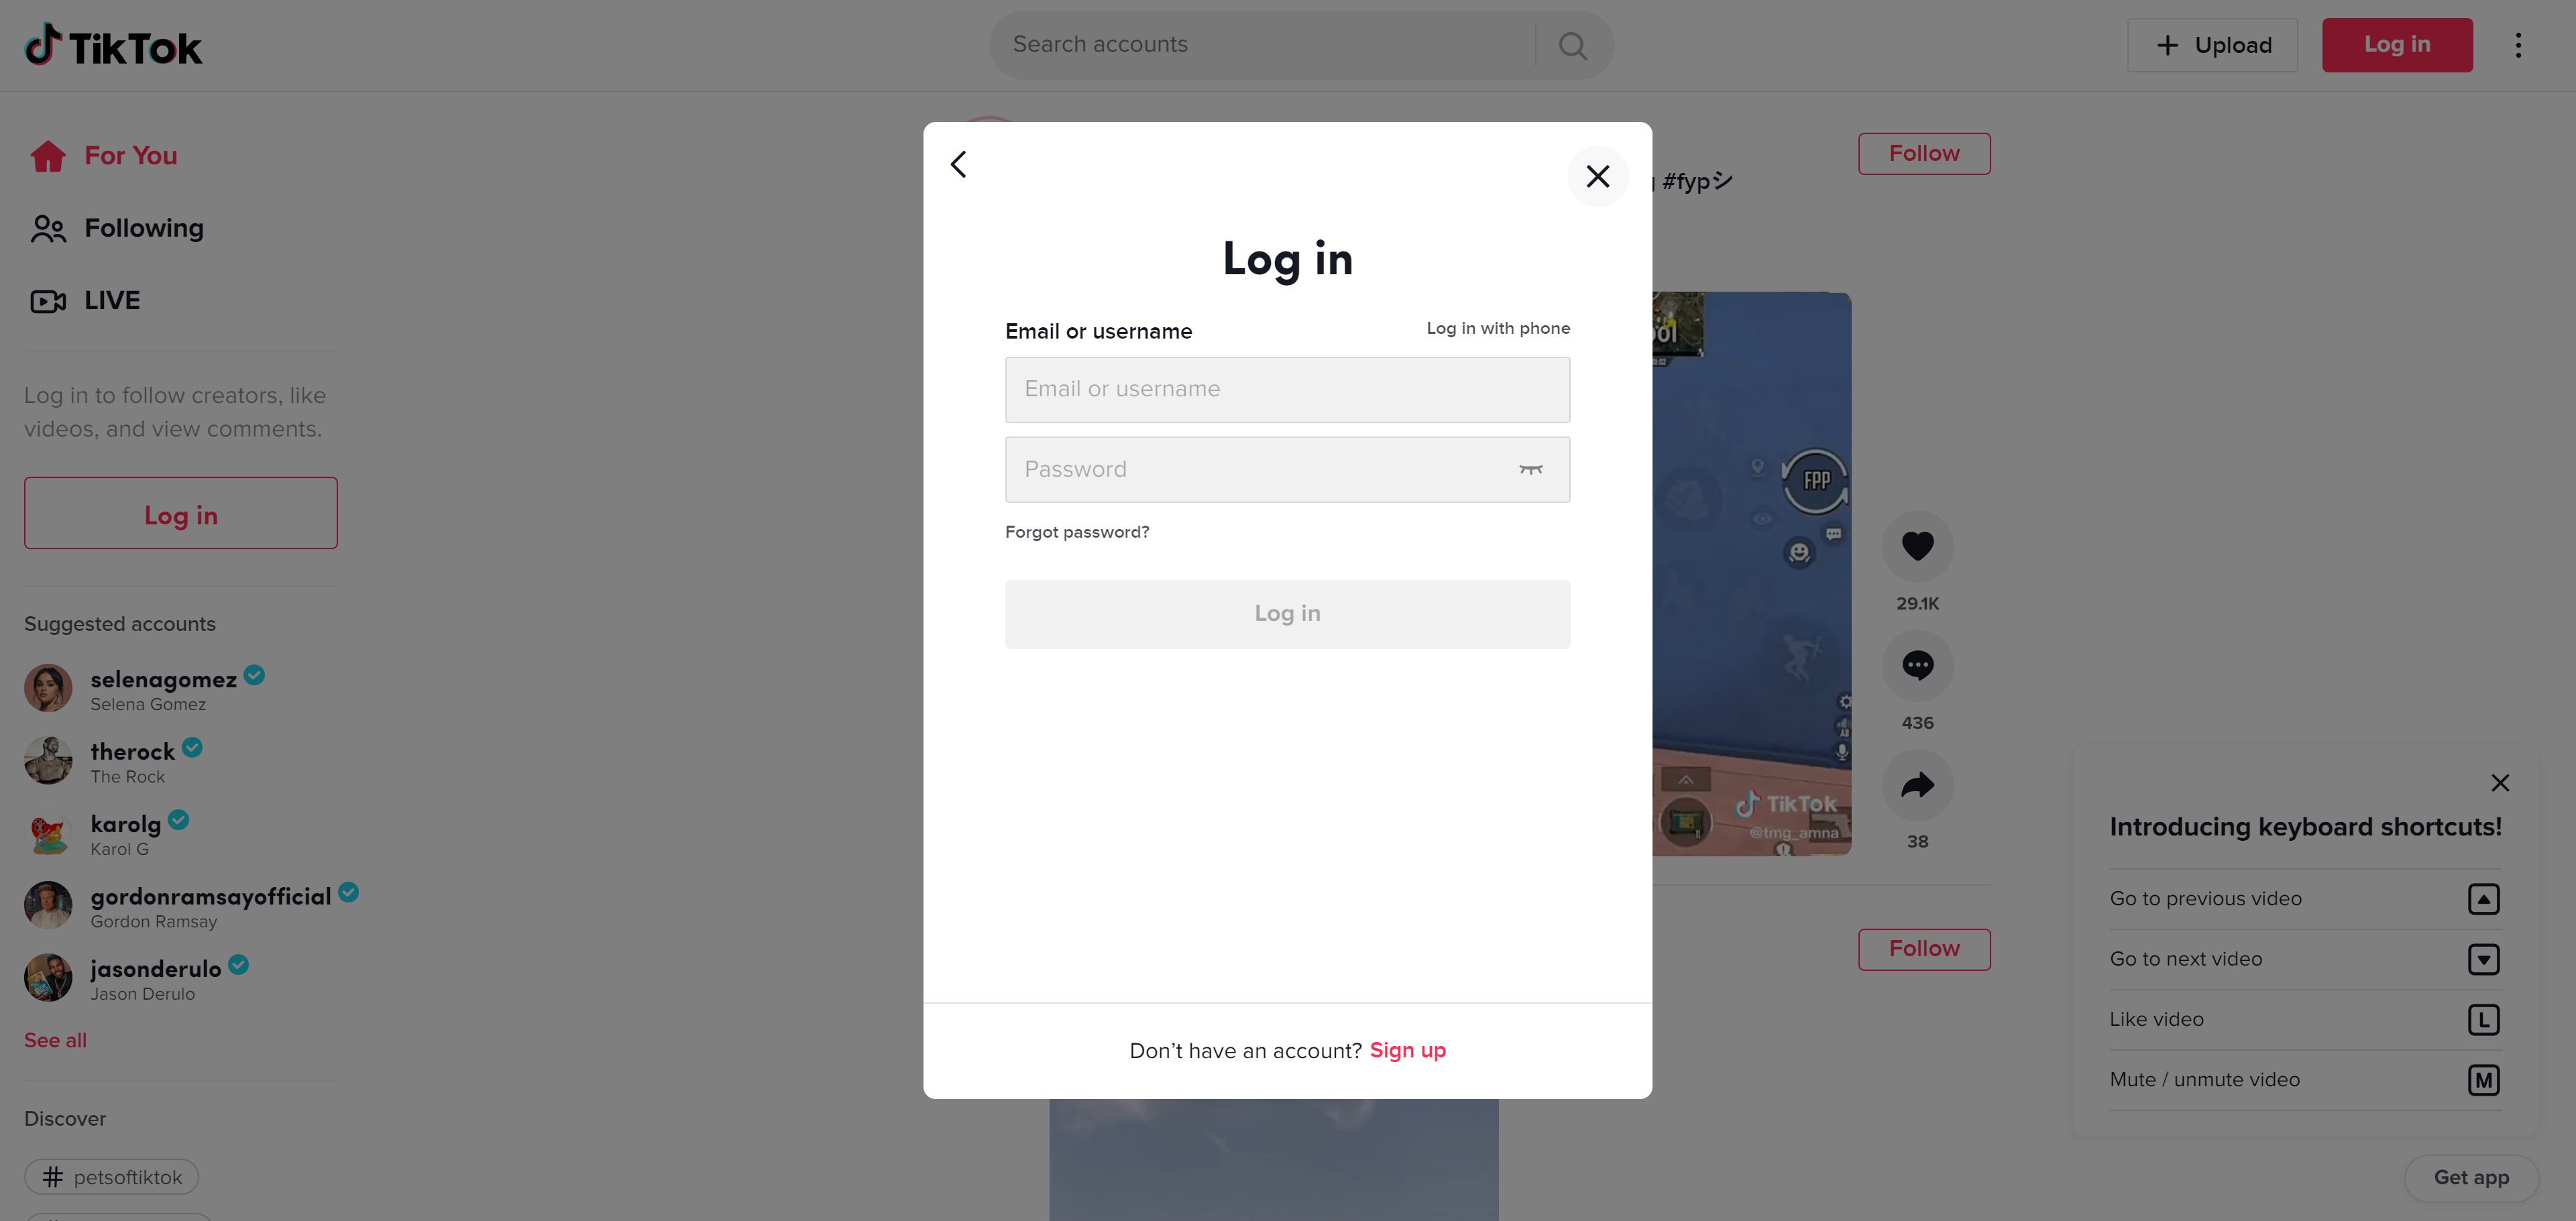login_button: (1005, 580, 1571, 651)
login_form: (999, 316, 1577, 657)
